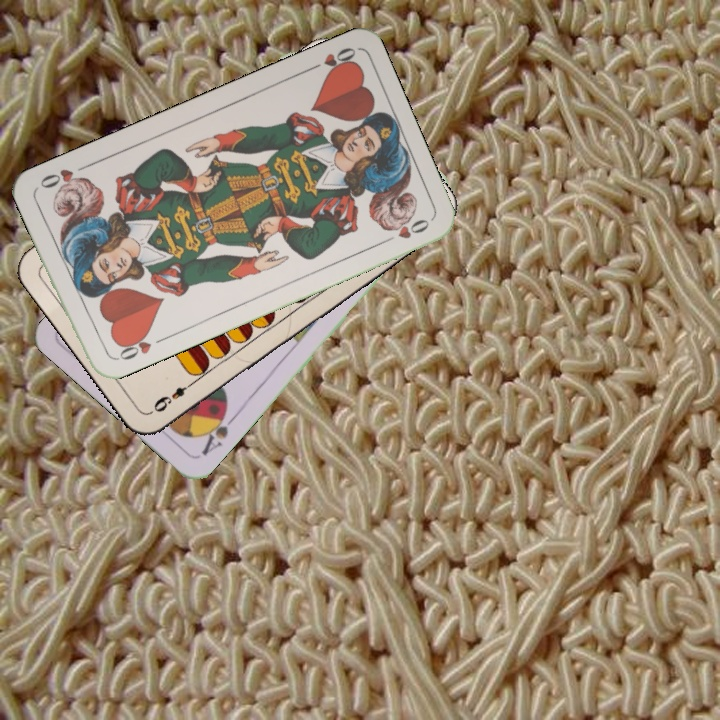E9: (147, 376, 199, 416)
HO: (109, 327, 166, 364), (301, 43, 359, 78)
SA: (195, 403, 240, 459)
